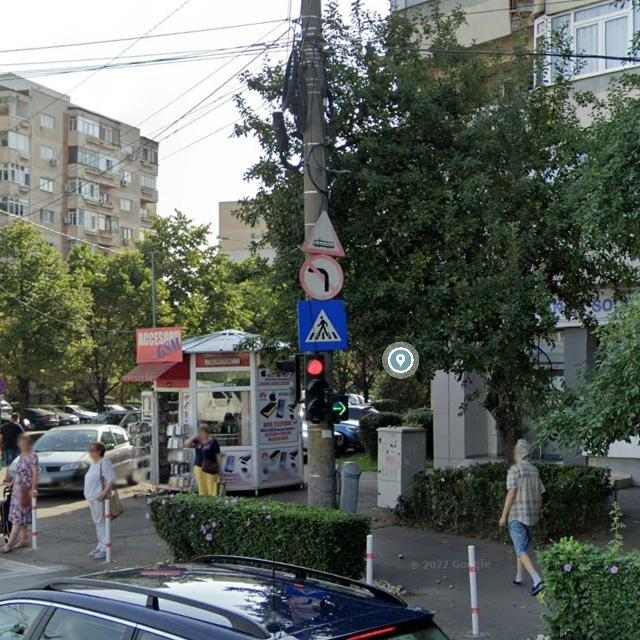info_crosswalk: (295, 299, 352, 353)
